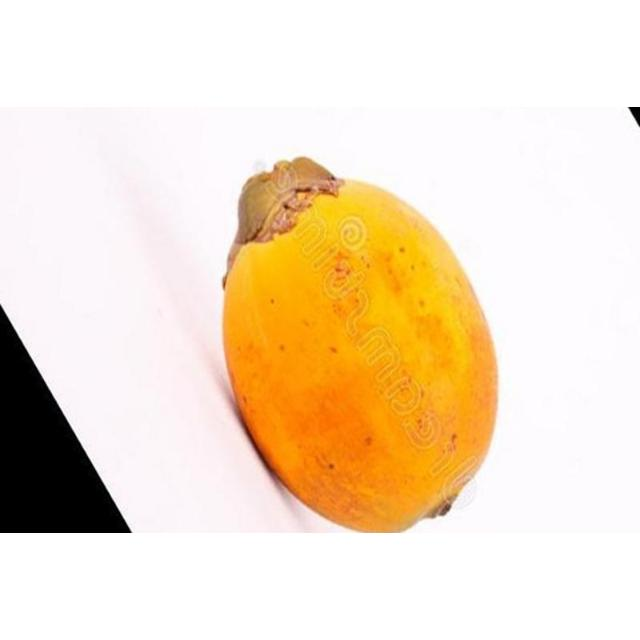good: (222, 160, 500, 533)
